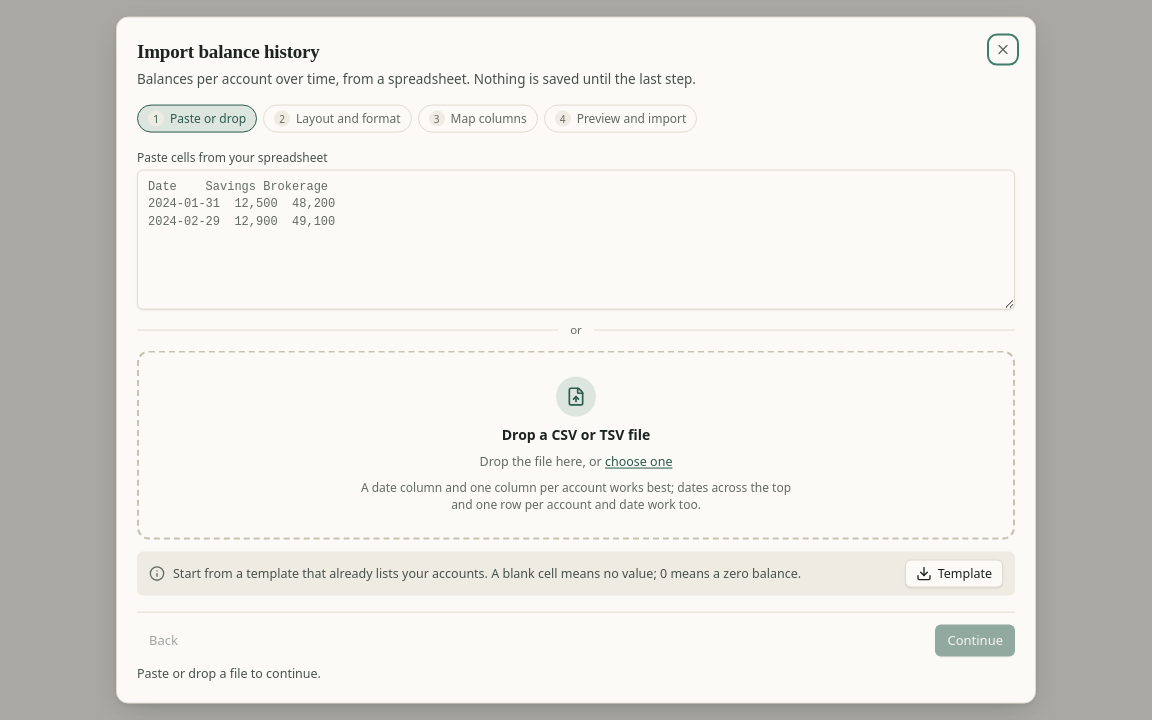
HistoryImportDialog › explains why a one-line file cannot continue
Replace the text in the text box labelled "Paste cells from your spreadsheet" with "foo,bar": (576, 239) left=137, top=169, right=1015, bottom=309
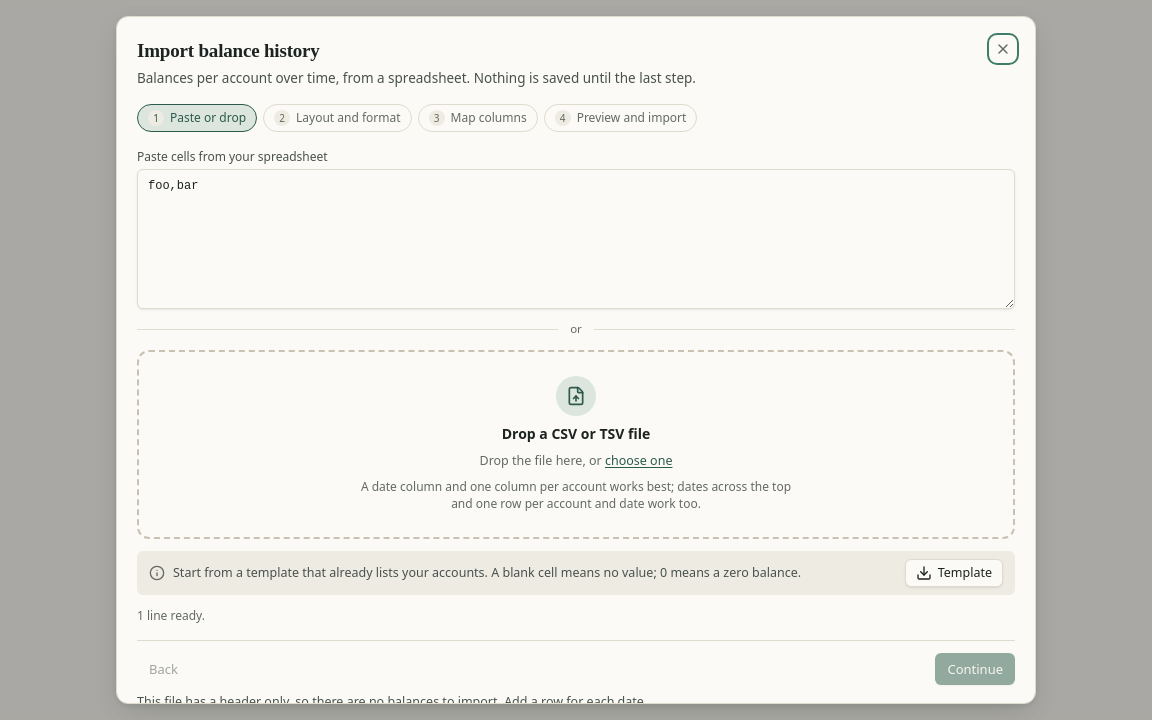
Expected: the button "Continue" is disabled, left=935, top=653, right=1015, bottom=685
Expected: the text "header only" is shown, left=137, top=693, right=647, bottom=704
